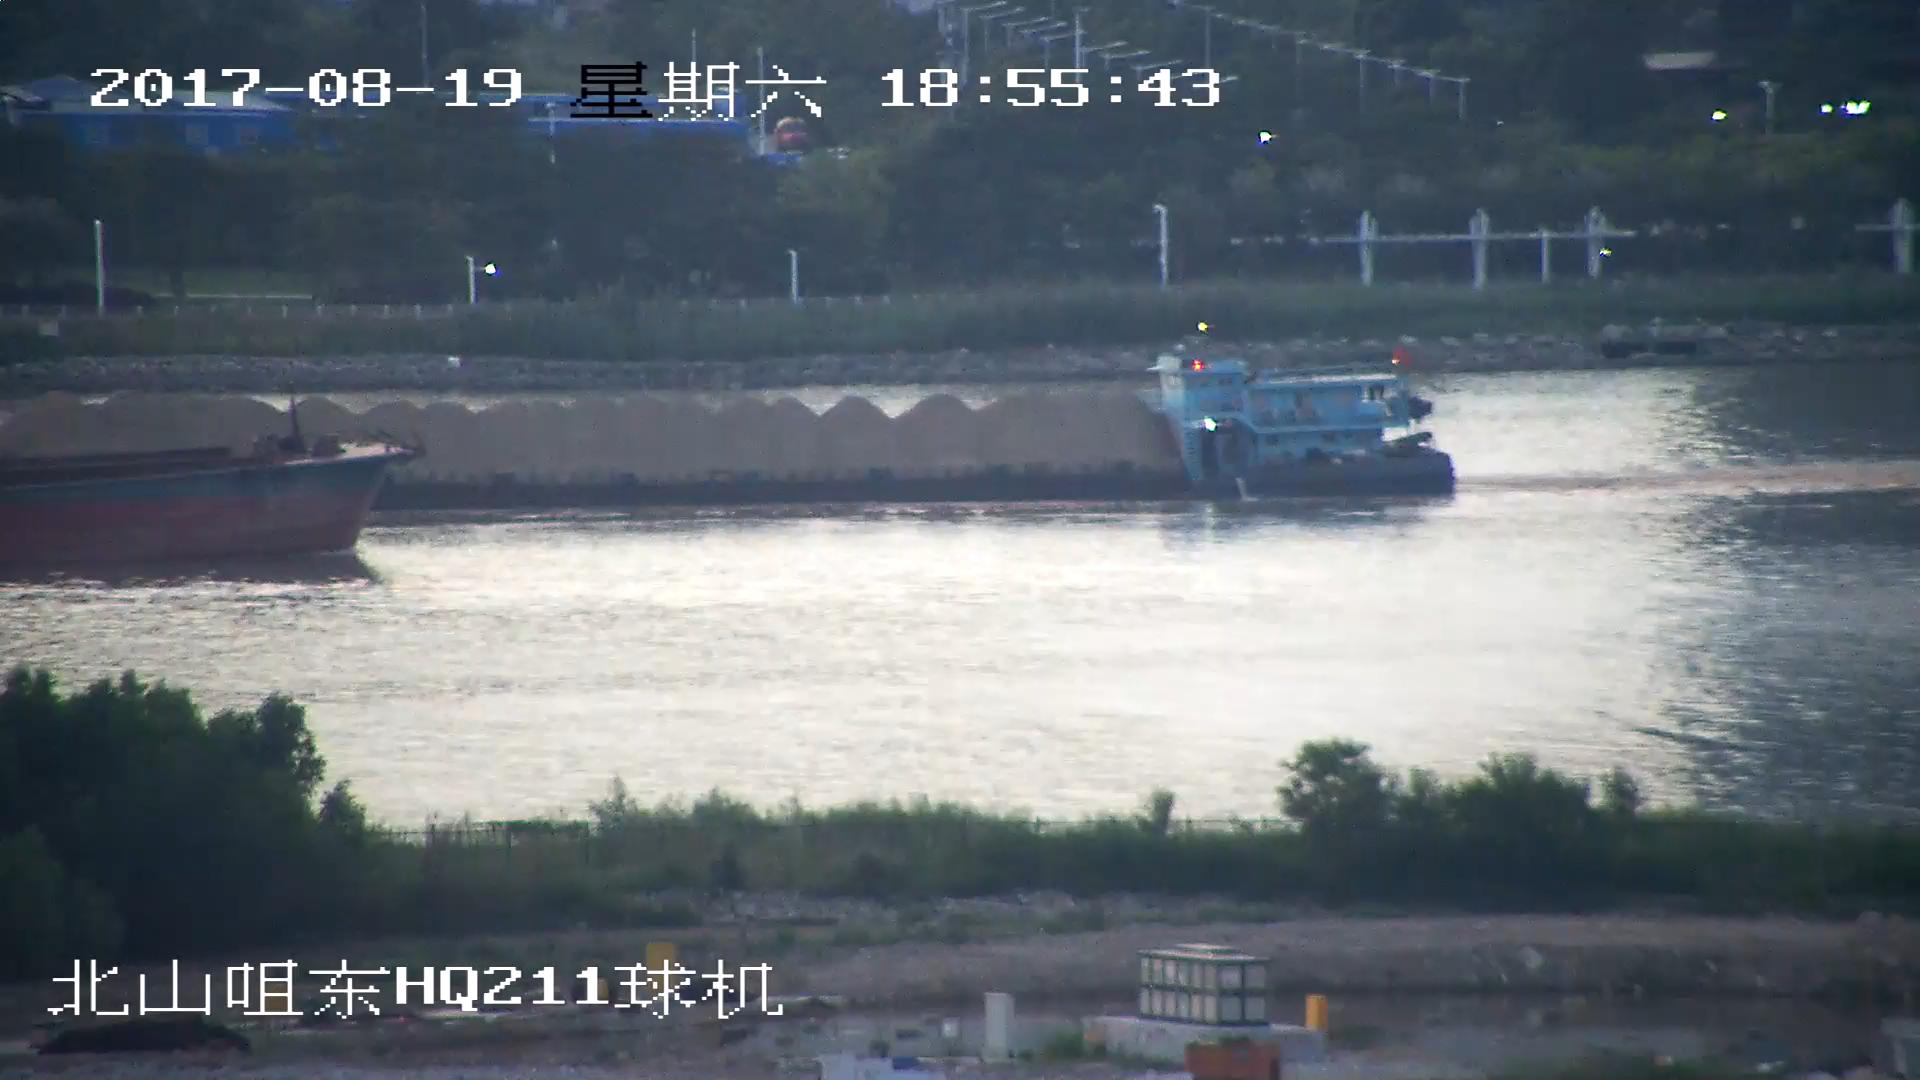bulk cargo carrier: (1, 423, 407, 569)
ore carrier: (1, 352, 1451, 503)
